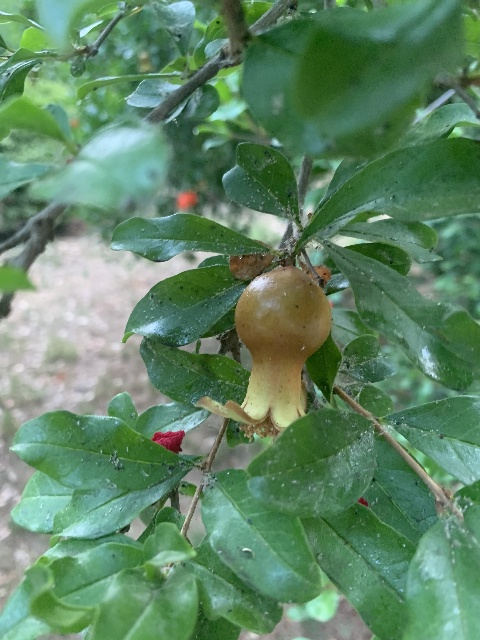early-fruit: (196, 266, 332, 432)
